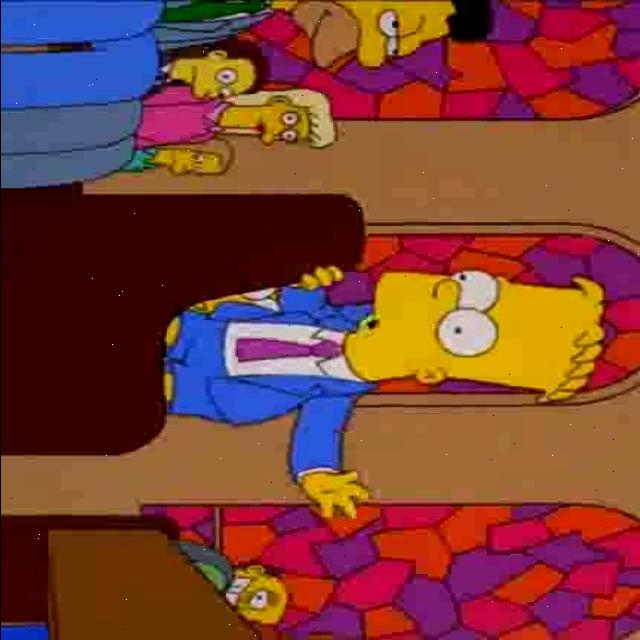Bart Simpson: (343, 266, 608, 407)
